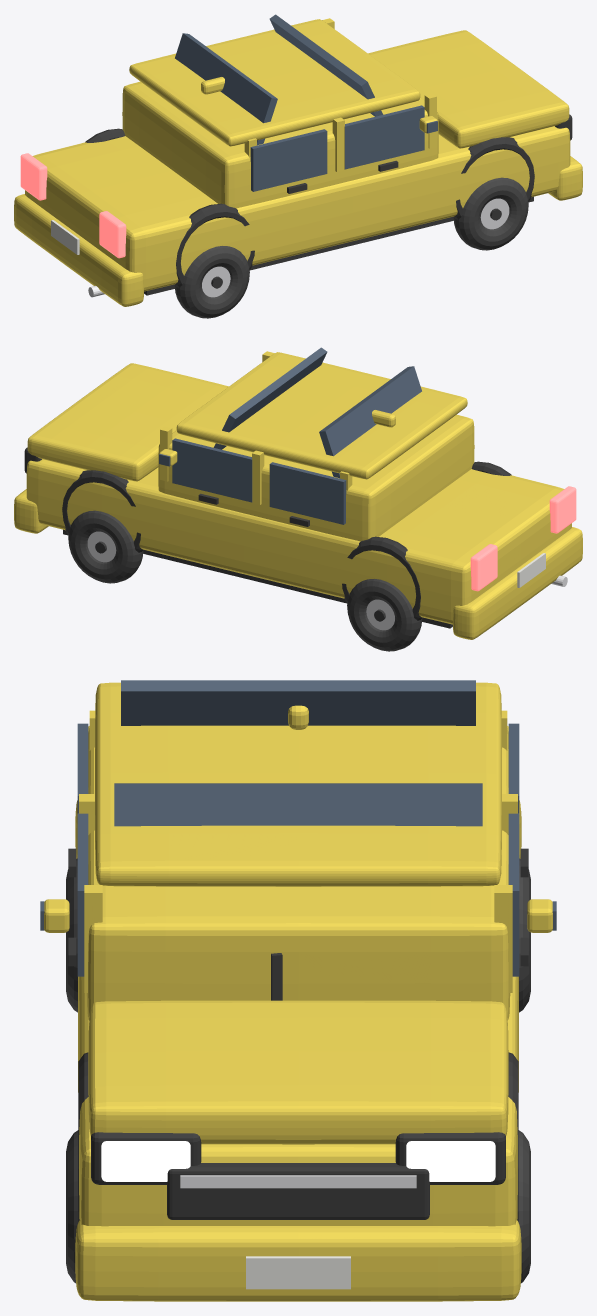
The model's file is jp_car_yellow.glb.
3 renders of one model, top to bottom at view 1: azimuth 30°, elevation 25°; view 2: azimuth 150°, elevation 25°; view 3: azimuth 270°, elevation 25°, orthographic. The views are drawn at different scales.
Visible parts, largest first — view 1: LowerBody, Roof, Hood, Cabin, BumperR, SideGlassF_-0.82, SideGlassR_-0.82, Tire3, Tire1, RearGlass, Windshield, Arch3 (+10 smaller); view 2: LowerBody, Roof, Hood, Cabin, BumperR, SideGlassF_0.82, SideGlassR_0.82, Tire2, Tire0, RearGlass, Windshield, Arch2 (+10 smaller); view 3: Hood, Roof, Cabin, BumperF, LowerBody, RearGlass, Windshield, Grille, PlateF, HeadLens_L, HeadLens_R, GrilleBar (+14 smaller).
Boxes of the visible parts, left/top/right/bottom form: LowerBody: left=25, top=126, right=570, bottom=291; Roof: left=129, top=19, right=420, bottom=146; Hood: left=368, top=30, right=569, bottom=148; Cabin: left=122, top=81, right=438, bottom=208; BumperR: left=14, top=194, right=143, bottom=306; SideGlassF_-0.82: left=344, top=105, right=424, bottom=169; SideGlassR_-0.82: left=250, top=129, right=327, bottom=191; Tire3: left=174, top=246, right=249, bottom=318; Tire1: left=453, top=177, right=528, bottom=250; RearGlass: left=175, top=33, right=277, bottom=145; Windshield: left=269, top=14, right=383, bottom=116; Arch3: left=174, top=203, right=254, bottom=287; LowerBody: left=26, top=459, right=571, bottom=624; Roof: left=176, top=352, right=467, bottom=479; Hood: left=27, top=363, right=228, bottom=481; Cabin: left=158, top=414, right=474, bottom=541; BumperR: left=453, top=527, right=582, bottom=639; SideGlassF_0.82: left=172, top=438, right=252, bottom=502; SideGlassR_0.82: left=269, top=462, right=346, bottom=524; Tire2: left=347, top=579, right=422, bottom=651; Tire0: left=68, top=510, right=143, bottom=583; RearGlass: left=319, top=366, right=421, bottom=478; Windshield: left=213, top=347, right=327, bottom=449; Arch2: left=342, top=536, right=422, bottom=620; Hood: left=88, top=1000, right=508, bottom=1144; Roof: left=95, top=682, right=501, bottom=886; Cabin: left=86, top=728, right=510, bottom=1020; BumperF: left=75, top=1220, right=521, bottom=1301; LowerBody: left=78, top=726, right=518, bottom=1226; RearGlass: left=121, top=680, right=475, bottom=725; Windshield: left=114, top=783, right=482, bottom=826; Grille: left=167, top=1163, right=429, bottom=1219; PlateF: left=246, top=1256, right=350, bottom=1289; HeadLens_L: left=406, top=1141, right=495, bottom=1181; HeadLens_R: left=101, top=1141, right=190, bottom=1181; GrilleBar: left=180, top=1175, right=416, bottom=1188.
Size of the model in its own units: 4.13 by 1.66 by 1.97.
